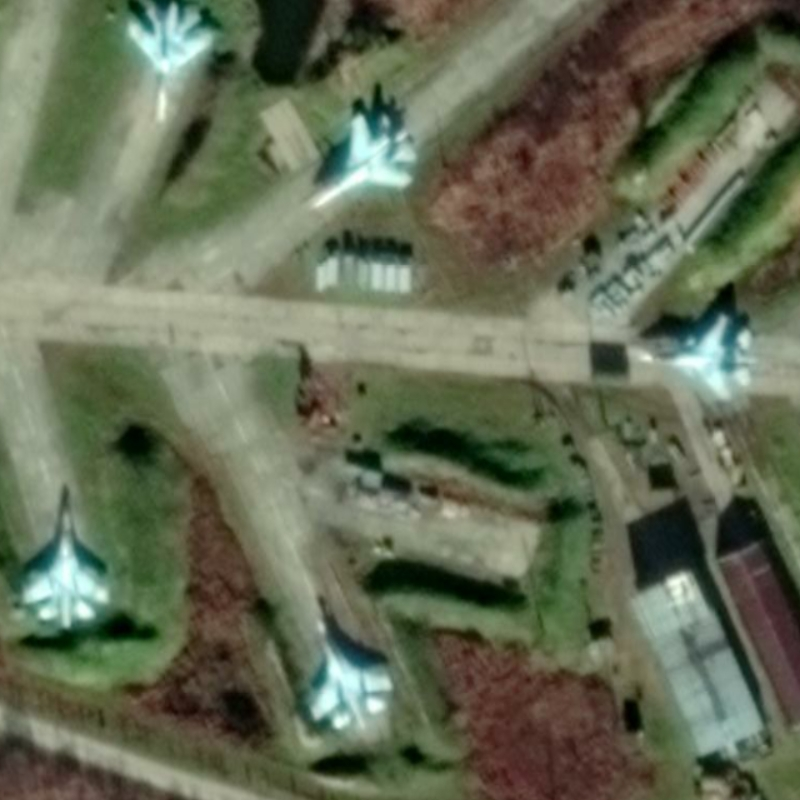A1: (19, 506, 112, 630), (308, 109, 419, 212), (125, 1, 217, 125), (306, 616, 395, 734)
A19: (639, 310, 759, 405)
